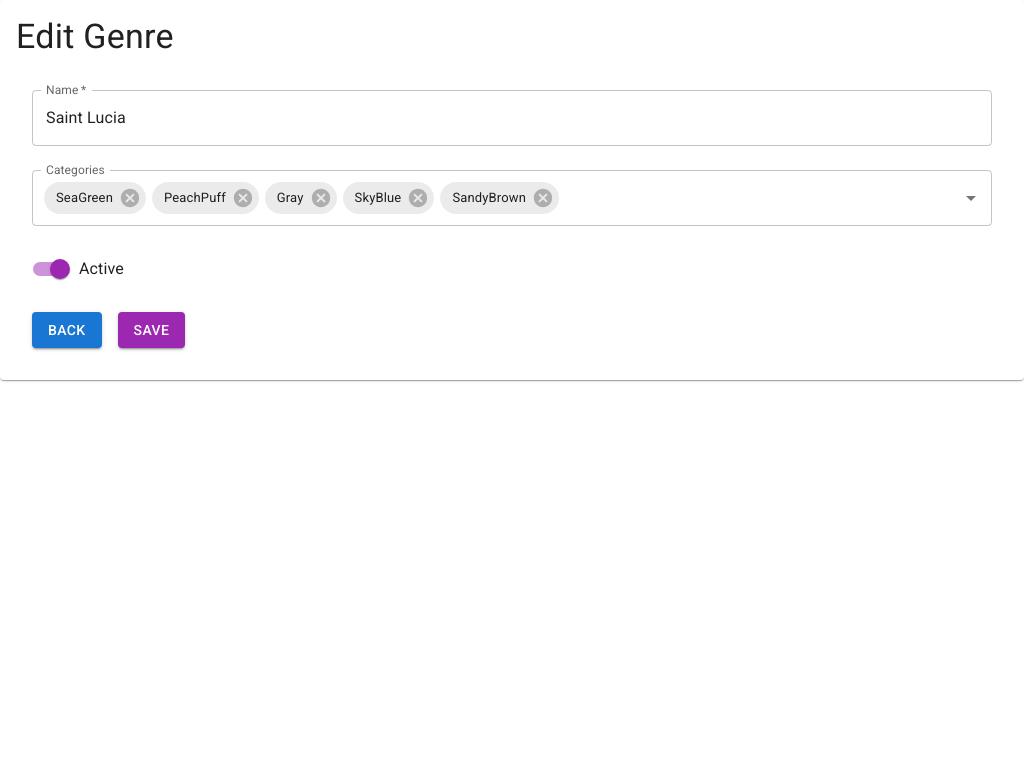
Test EditGenre page › should handle submit error
Step 1. Replace the text in the field with test id "name-input" with "Test Name" → (512, 118), box [32,90,992,146]
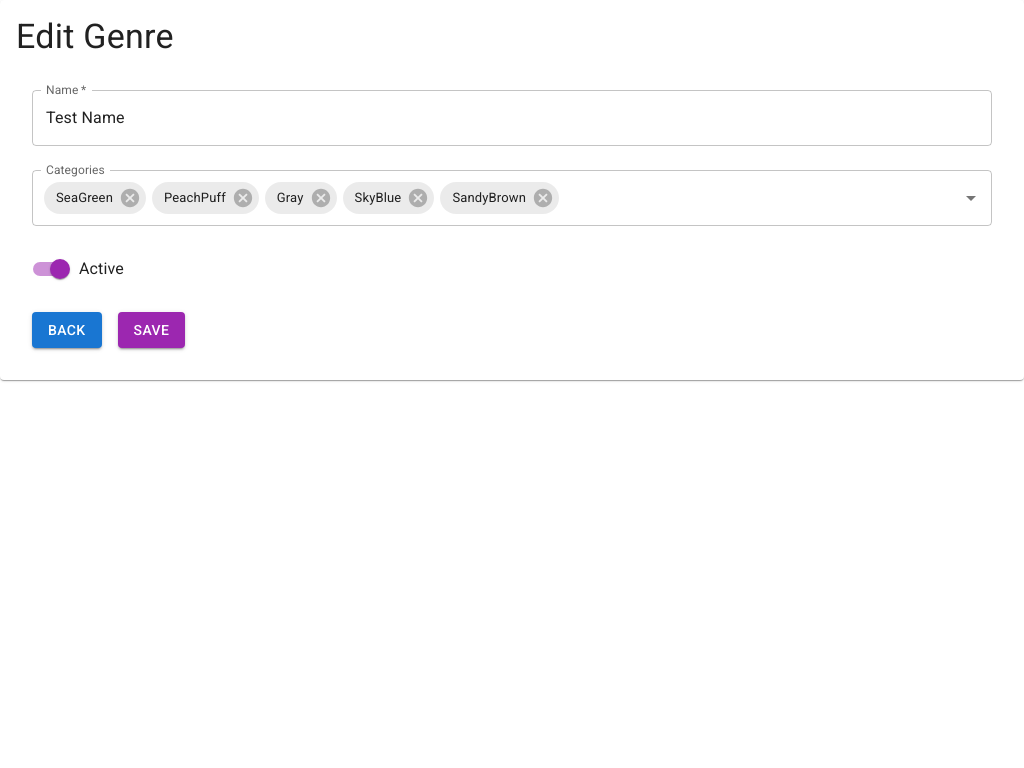
Step 2. Click the button "Save" → click(152, 330), box [118,312,185,348]
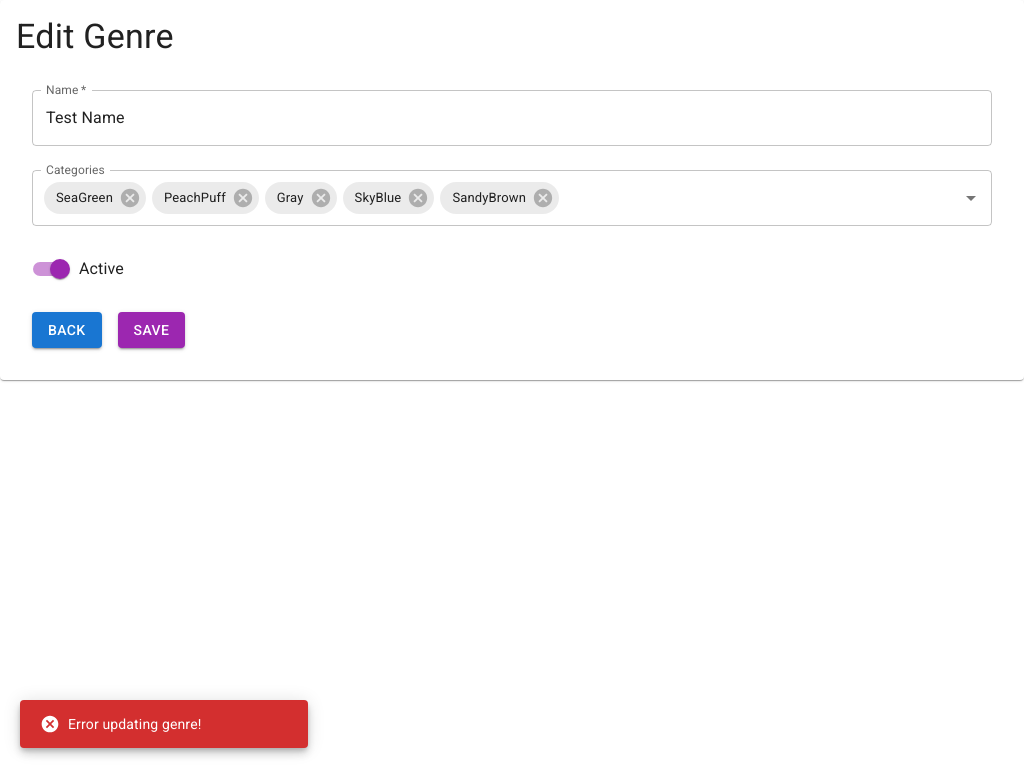
Now the text "Error updating genre!" is shown, box [40,714,202,734]
